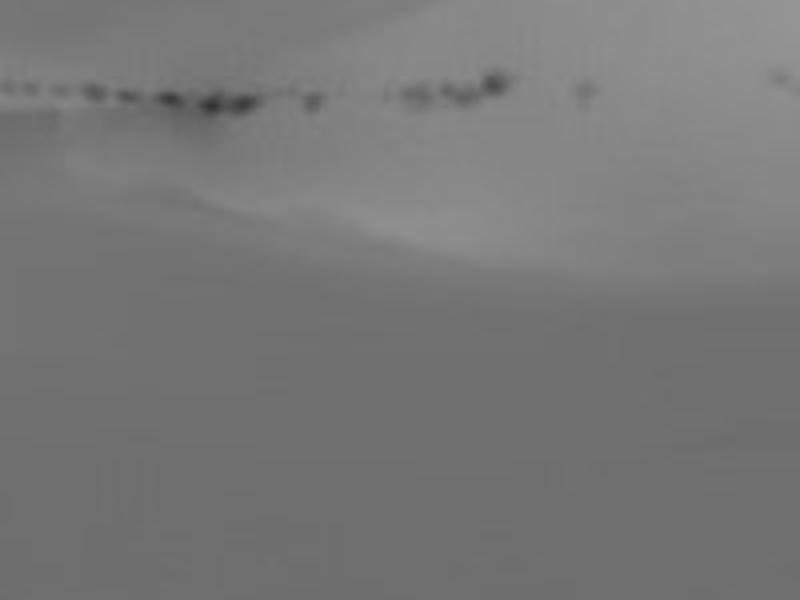defect: (440, 84, 485, 110), (399, 86, 432, 111), (577, 81, 598, 113), (115, 85, 143, 106), (200, 95, 225, 118), (301, 93, 326, 116), (480, 73, 507, 94), (156, 90, 187, 108), (82, 84, 109, 104), (236, 95, 259, 116), (47, 82, 75, 99), (1, 81, 19, 101), (26, 79, 43, 99)
